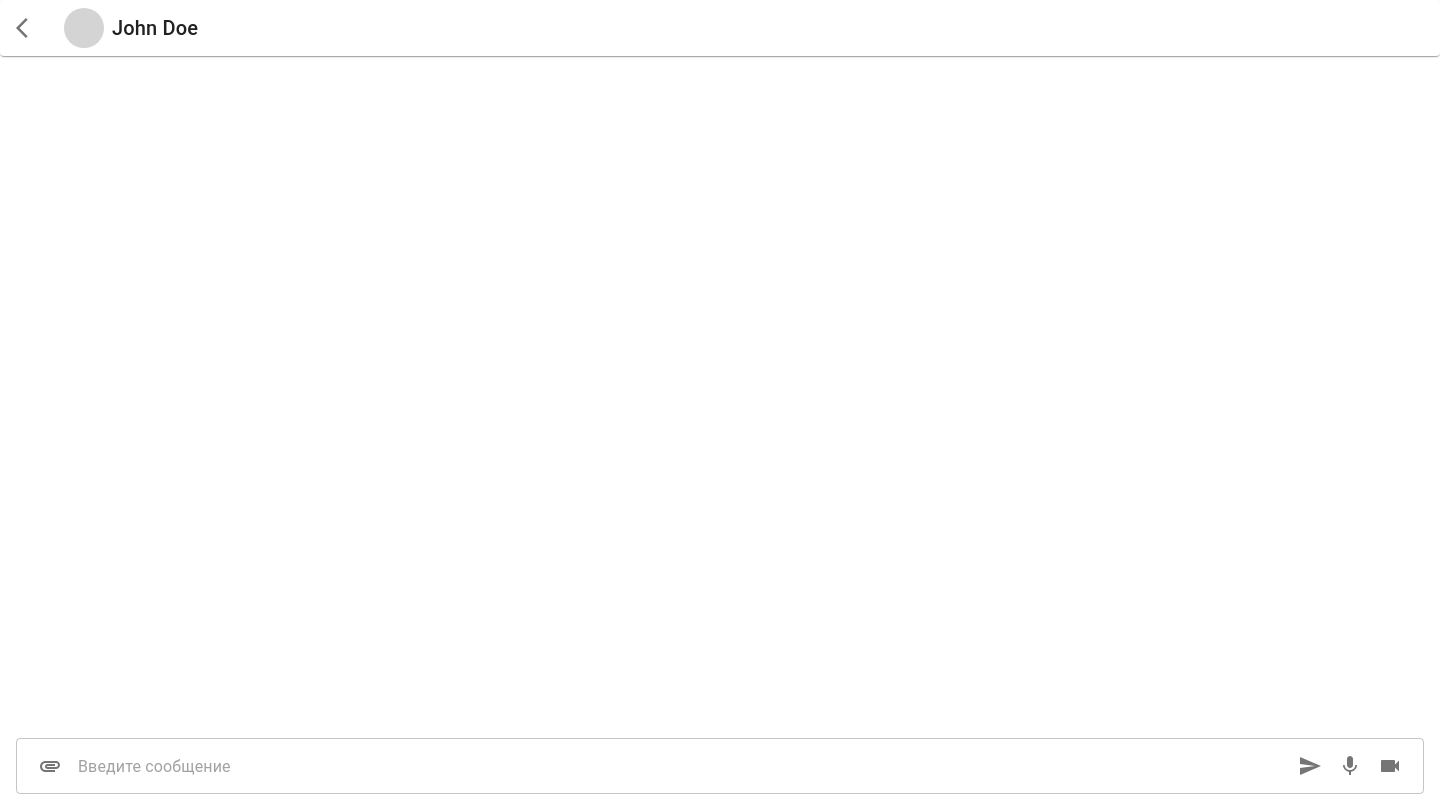
Messages Component › closes the picker modal when the modal is dismissed
Click the button with test id "attachment-button".
click(50, 766)  # box [30,746,70,786]
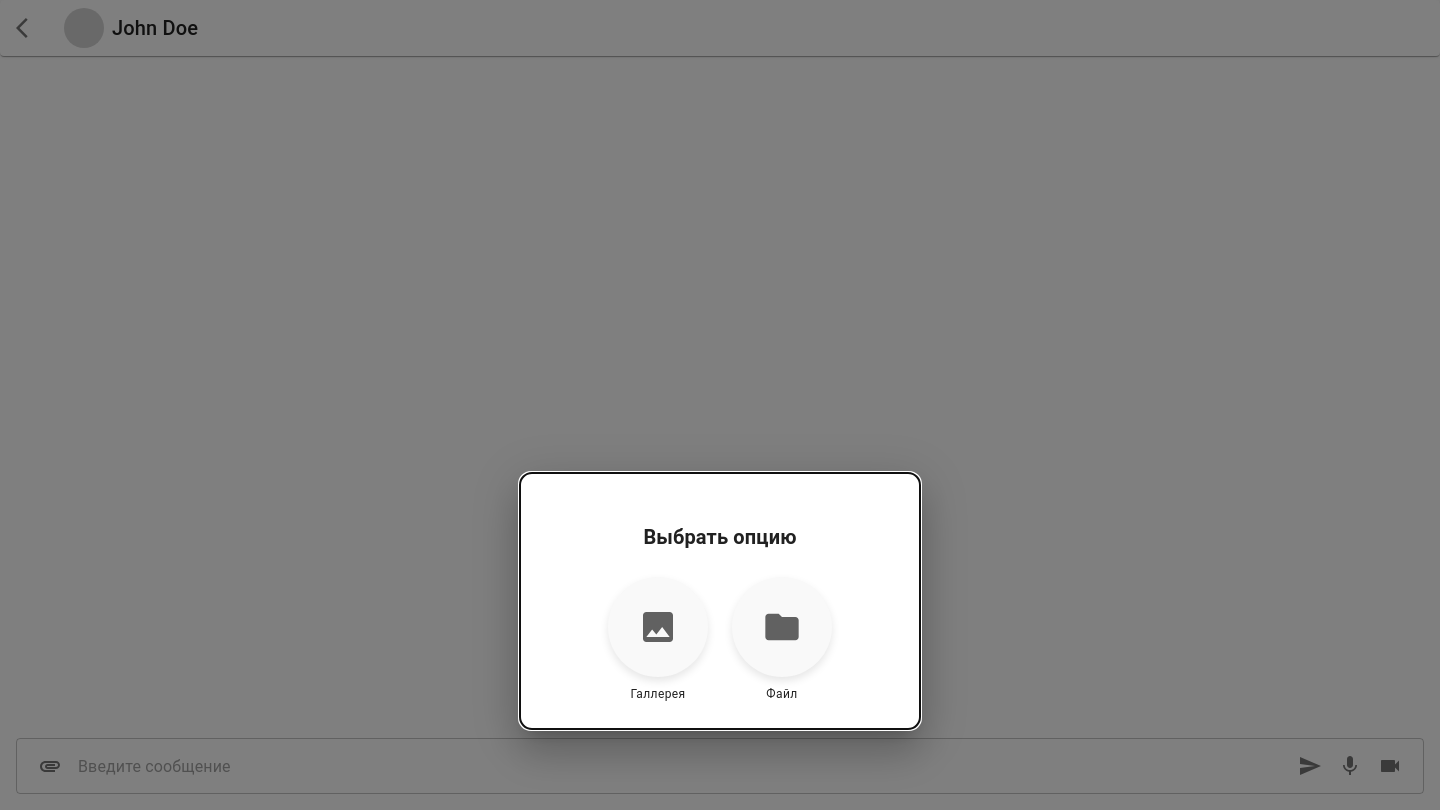
Check: the dialog is shown
Press Escape in the dialog
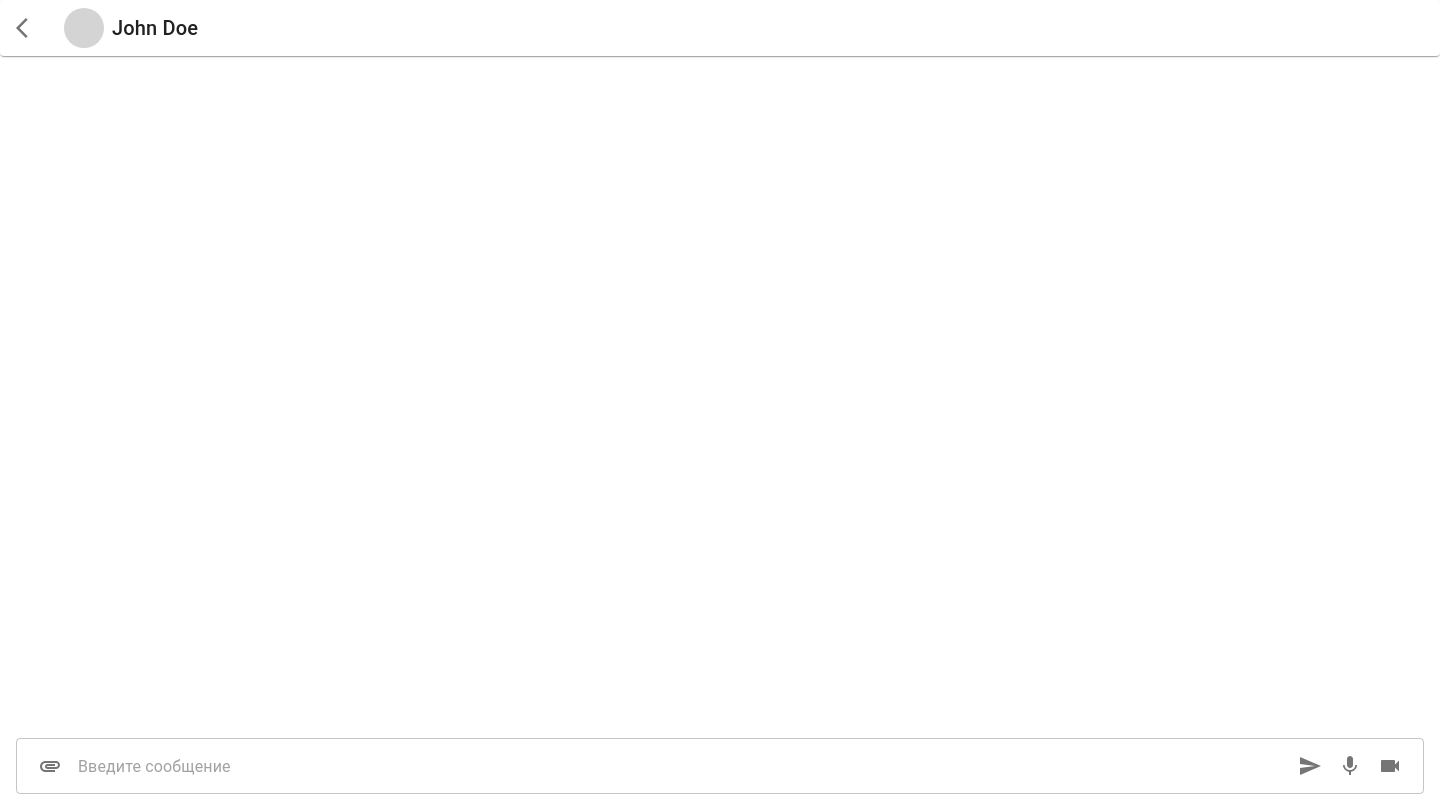
Check: the dialog is gone
